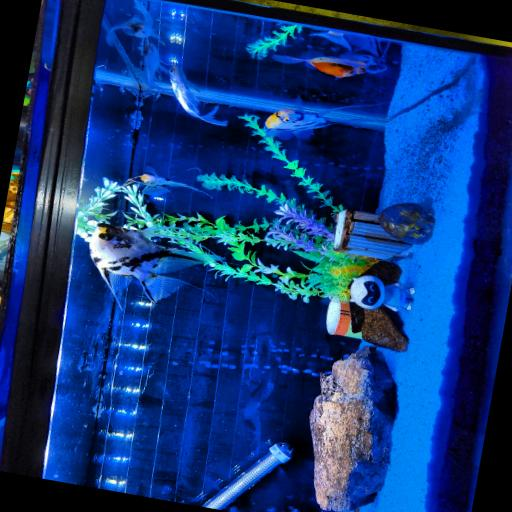Fish: (90, 223, 217, 309), (265, 100, 388, 139), (169, 65, 227, 126), (273, 55, 386, 78), (124, 167, 210, 197), (106, 0, 163, 45), (311, 31, 385, 58), (106, 17, 163, 45), (143, 43, 168, 91)
